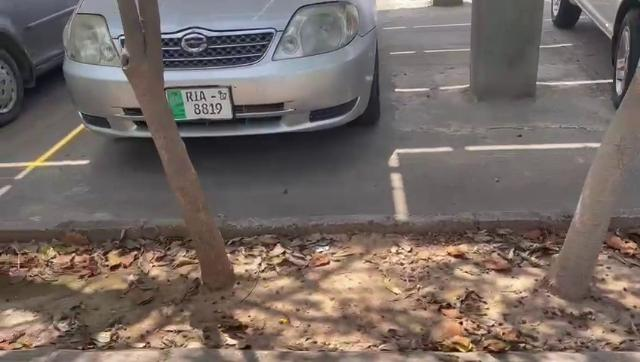plate: (159, 84, 239, 124)
